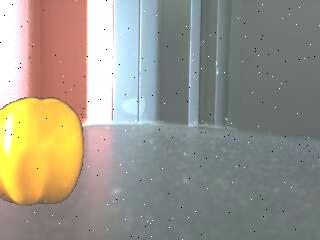Capsicum: (0, 94, 85, 206)
